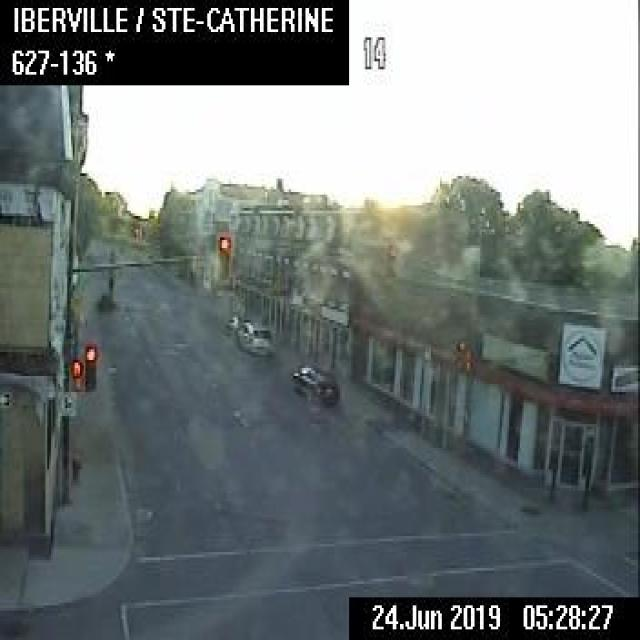vehicle: (289, 362, 338, 404), (234, 318, 271, 354), (219, 311, 241, 334)
